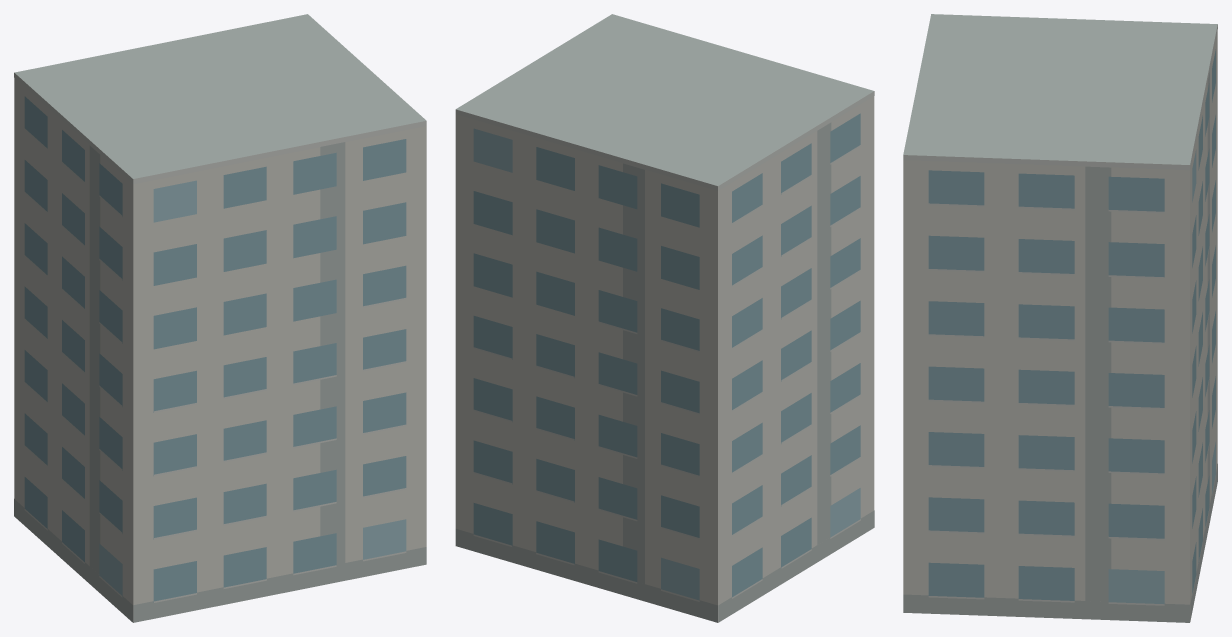
Rendered from residential-68c69123-746a-4973-9576-2f9080ca77b1.glb.
The picture shows the model from 3 angles, left to right: view 1: azimuth 30°, elevation 25°; view 2: azimuth 150°, elevation 25°; view 3: azimuth 270°, elevation 25°; orthographic projection. The views are drawn at different scales.
Parts seen in each view (by area): view 1: residential-68c69123-746a-4973-9576-2f9080ca77b1.tmp; view 2: residential-68c69123-746a-4973-9576-2f9080ca77b1.tmp; view 3: residential-68c69123-746a-4973-9576-2f9080ca77b1.tmp.
Part boxes in pixels (x1,y1,x2,y2): residential-68c69123-746a-4973-9576-2f9080ca77b1.tmp: (14,14,426,622); residential-68c69123-746a-4973-9576-2f9080ca77b1.tmp: (455,14,874,622); residential-68c69123-746a-4973-9576-2f9080ca77b1.tmp: (903,14,1217,622).
Bounding box in the file's own units: 15.12 × 21.35 × 13.3.
